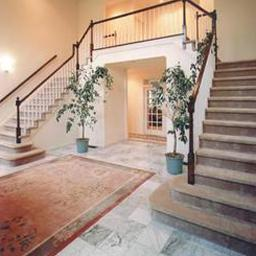Escaleras: (156, 53, 255, 235), (4, 18, 90, 170)
Matera: (60, 69, 110, 157), (151, 67, 190, 173)
